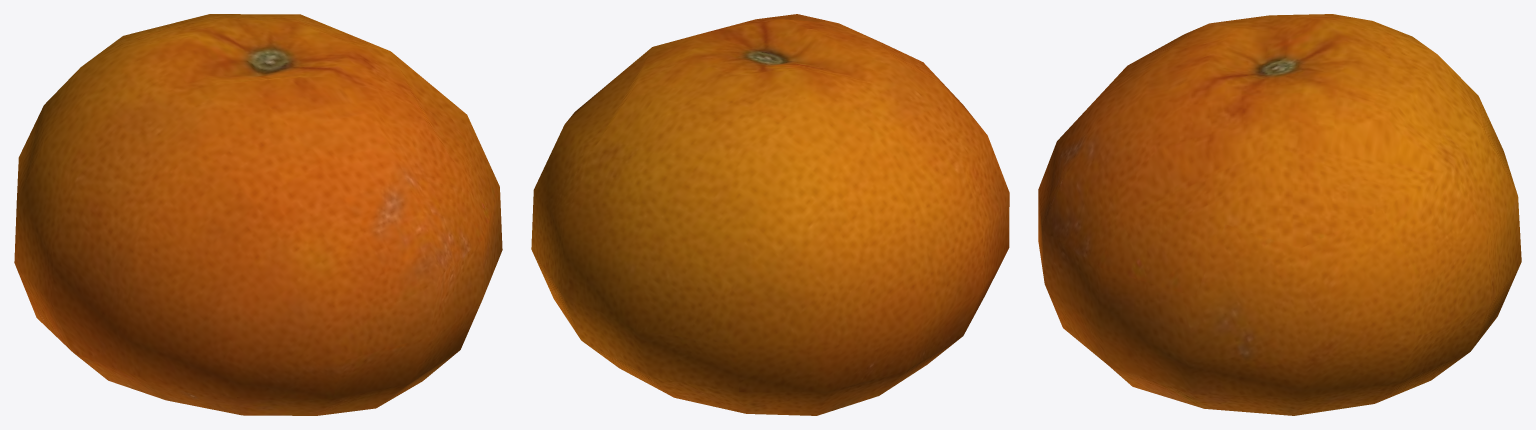
The model's file is A62_Orange_low.fbx.
3 renders of one model, left to right at view 1: azimuth 30°, elevation 25°; view 2: azimuth 150°, elevation 25°; view 3: azimuth 270°, elevation 25°, orthographic. The views are drawn at different scales.
Parts seen in each view (by area): view 1: A62_Orange_low; view 2: A62_Orange_low; view 3: A62_Orange_low.
Boxes of the visible parts, x1,y1,x2,y2 form: A62_Orange_low: (14, 14, 502, 415); A62_Orange_low: (531, 14, 1009, 415); A62_Orange_low: (1038, 14, 1521, 415).
Bounding box in the file's own units: 11.88 × 11.92 × 8.72.
1 material, 1 textured.
